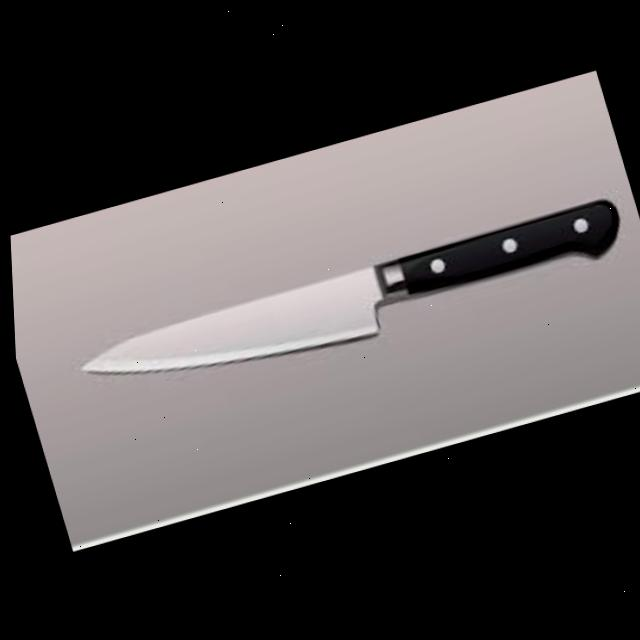knife: (68, 196, 636, 413)
